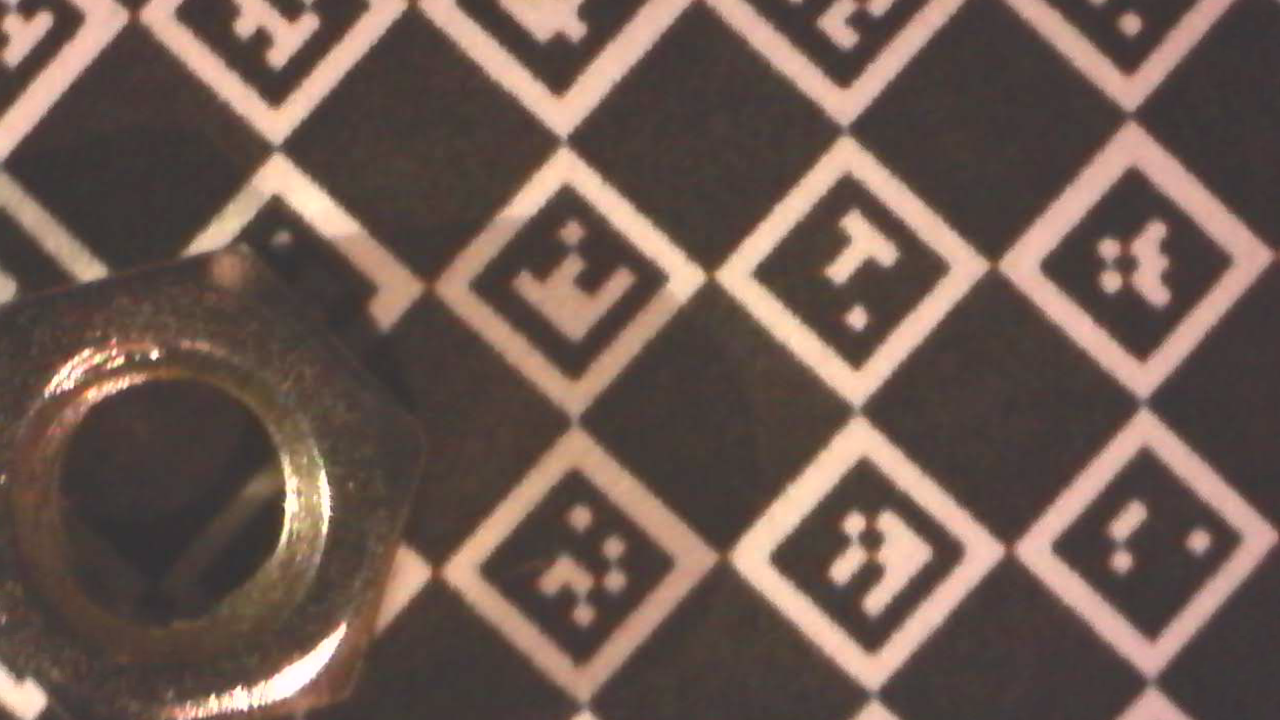Bolt: (0, 239, 439, 719)
